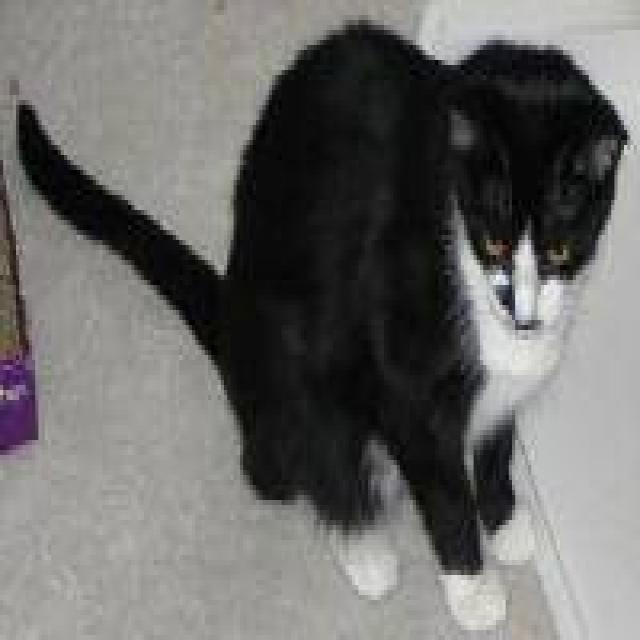cat: (16, 15, 627, 630)
